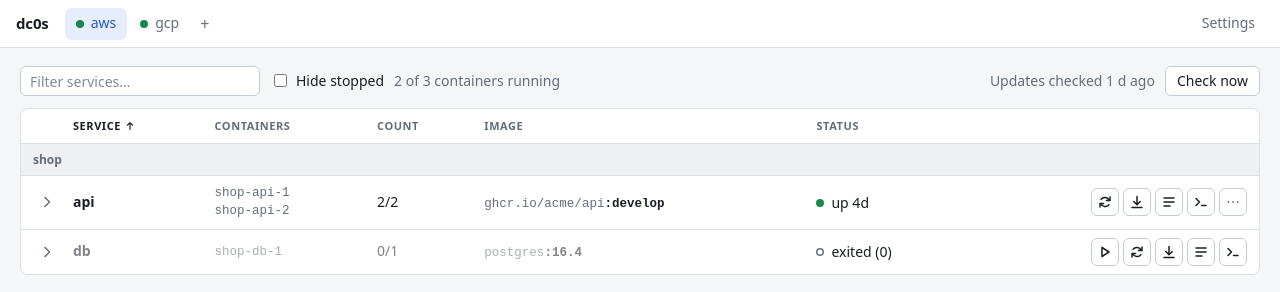
it: the filter and "hide stopped" narrow the list
Check: the row that starts with "api" is shown, box [21,176,1259,229]
In the search field labelled "Filter services": coordinates (140, 81) [20,66,260,96], type "postgres"
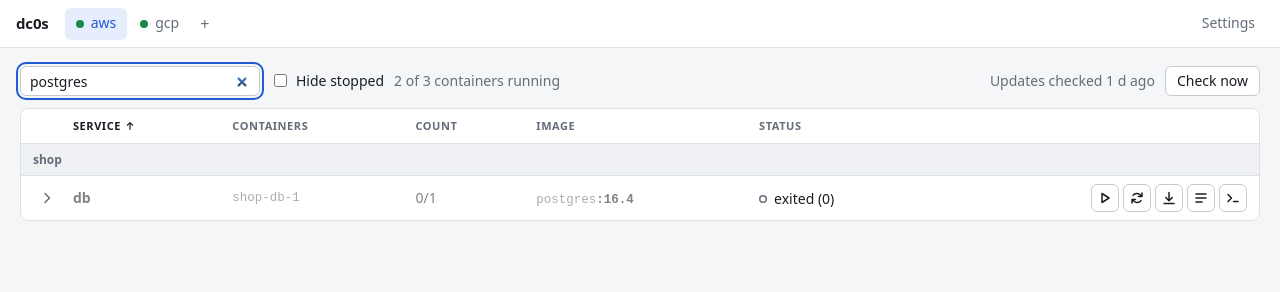
Check: the row "db shop-db-1 0/1 postgres :16.4 exited (0)" is shown, box [21,176,1259,220]
Check: the link "api" is gone
Clear the search field named "Filter services": coordinates (140, 81) [20,66,260,96]
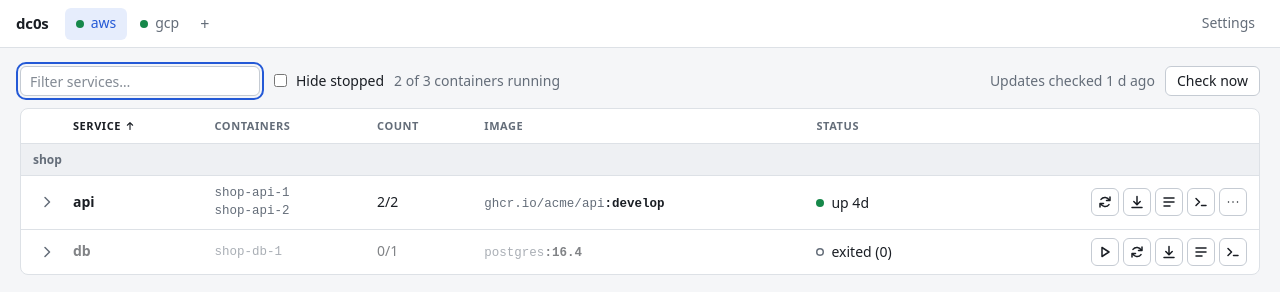
Click the checkbox labelled "Hide stopped": coordinates (280, 81) [274,74,287,88]
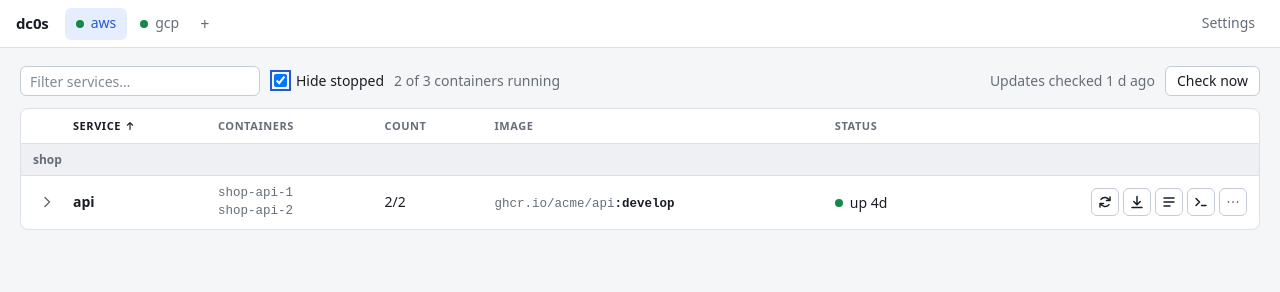
Check: the row that starts with "api" is shown, box [21,176,1259,229]
Check: the link "db" is gone
In the search field labelled "Filter services": coordinates (140, 81) [20,66,260,96], type "nothing-like-this"
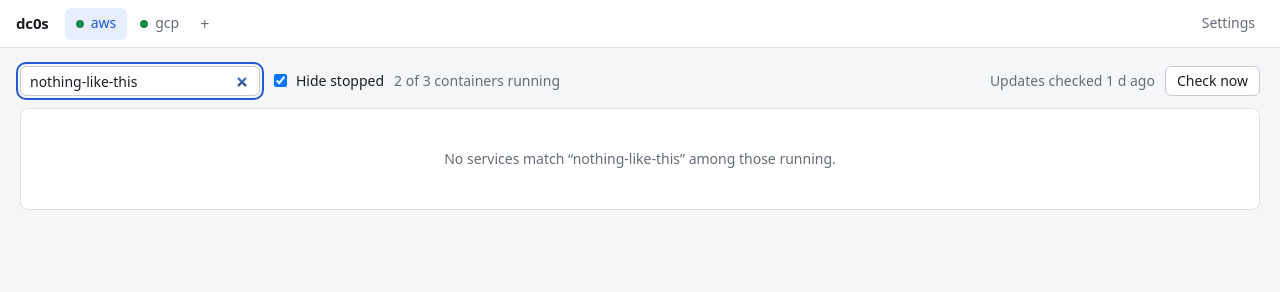
Check: the text "No services match “nothing-like-this” among those running." is shown, box [20,108,1260,210]
